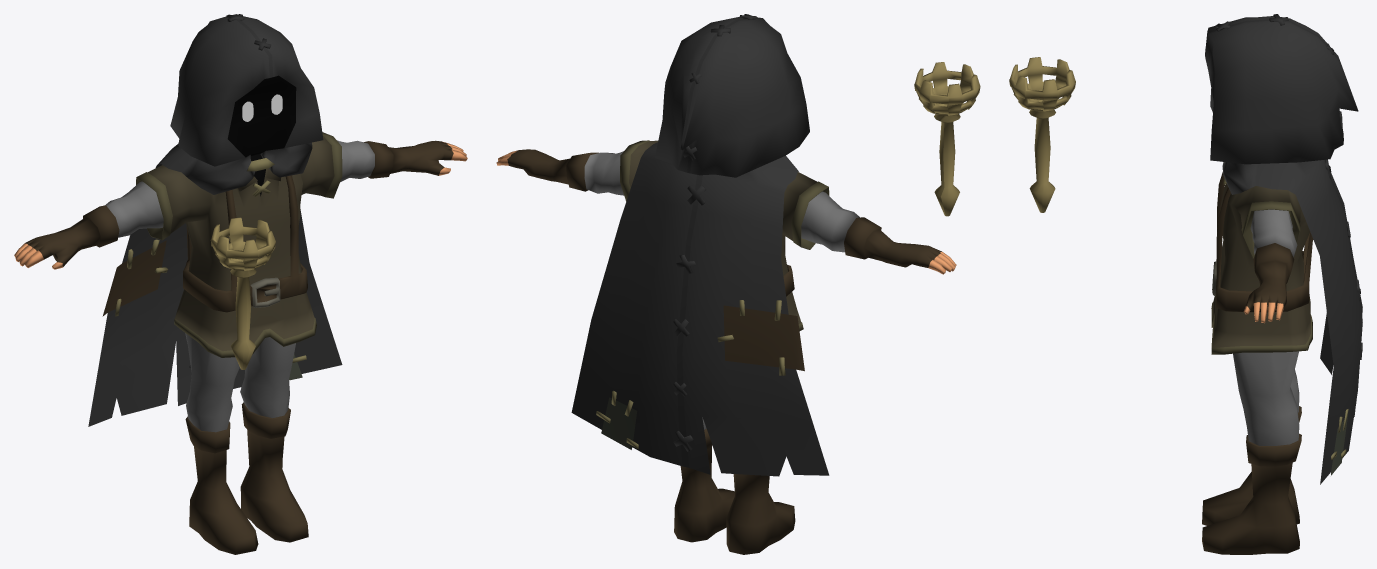
The model's file is Perso_Final.fbx.
The picture shows the model from 3 angles, left to right: view 1: azimuth 30°, elevation 25°; view 2: azimuth 150°, elevation 25°; view 3: azimuth 270°, elevation 25°; orthographic projection. The views are drawn at different scales.
Parts seen in each view (by area): view 1: Corps, Capuche et Cape, Torche, Bretelles; view 2: Capuche et Cape, Corps, Torche; view 3: Capuche et Cape, Corps, Torche, Bretelles.
Part boxes in pixels (x1,y1,x2,y2): Corps: (14, 132, 467, 554); Capuche et Cape: (88, 14, 342, 426); Torche: (210, 217, 275, 369); Bretelles: (183, 175, 307, 312); Capuche et Cape: (571, 14, 829, 476); Corps: (496, 140, 956, 554); Torche: (914, 62, 980, 216); Capuche et Cape: (1205, 14, 1362, 484); Corps: (1202, 177, 1312, 554); Torche: (1009, 57, 1075, 212); Bretelles: (1212, 172, 1313, 312).
Size of the model in its own units: 221 by 238 by 148.
